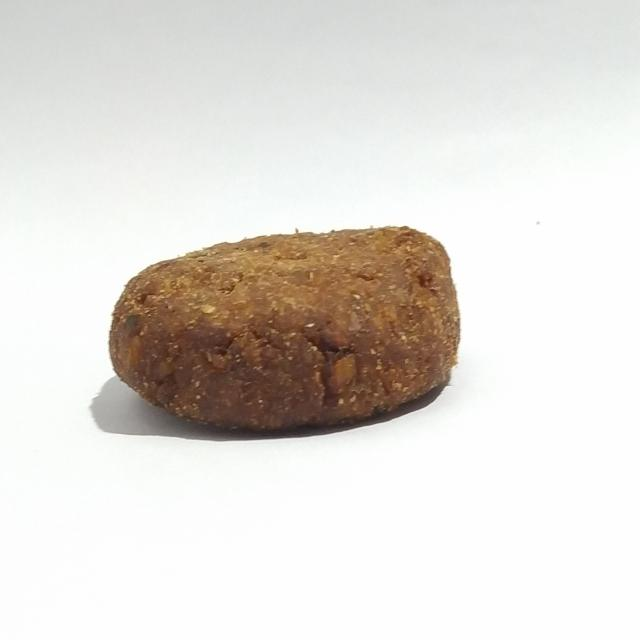Food: (98, 209, 468, 444)
